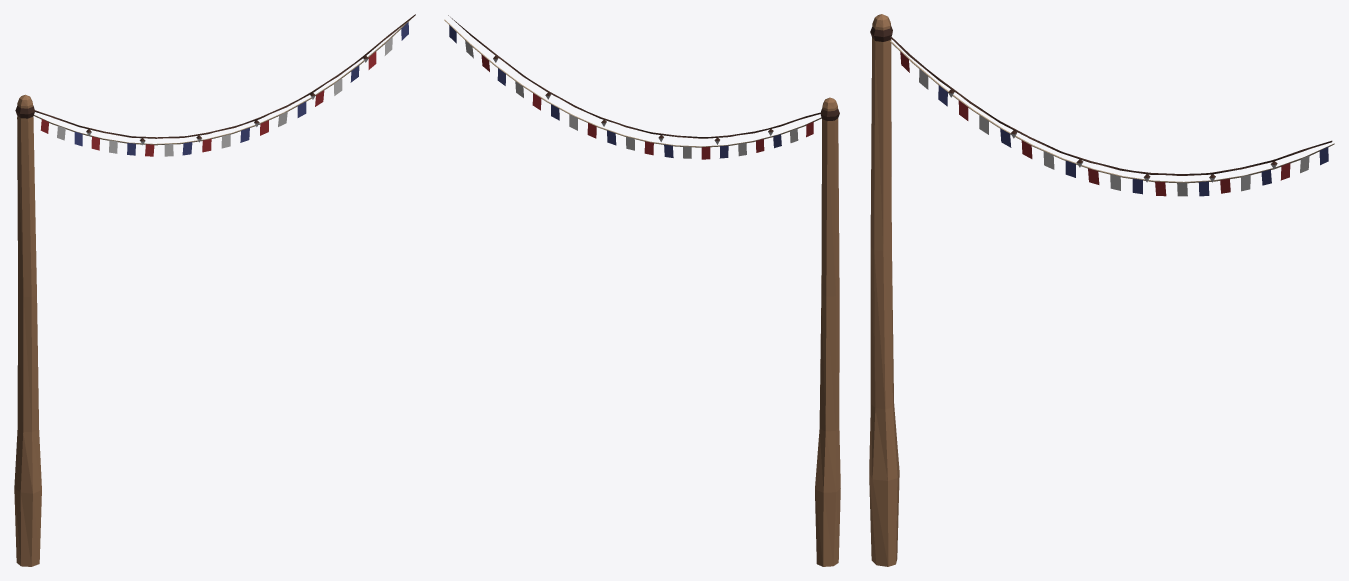
Rendered from guirnalda-run-25f4bc.glb.
3 renders of one model, left to right at view 1: azimuth 30°, elevation 25°; view 2: azimuth 150°, elevation 25°; view 3: azimuth 330°, elevation 25°, orthographic. The views are drawn at different scales.
Parts seen in each view (by area): view 1: pole, guirnalda; view 2: pole, guirnalda; view 3: pole, guirnalda.
Part boxes in pixels (<box>): pole: <box>14,94,41,566</box>; guirnalda: <box>33,14,415,156</box>; pole: <box>815,97,840,566</box>; guirnalda: <box>444,15,821,159</box>; pole: <box>869,14,899,566</box>; guirnalda: <box>890,36,1334,196</box>.
Bounding box in the file's own units: 3.99 × 4.5 × 0.2404.
